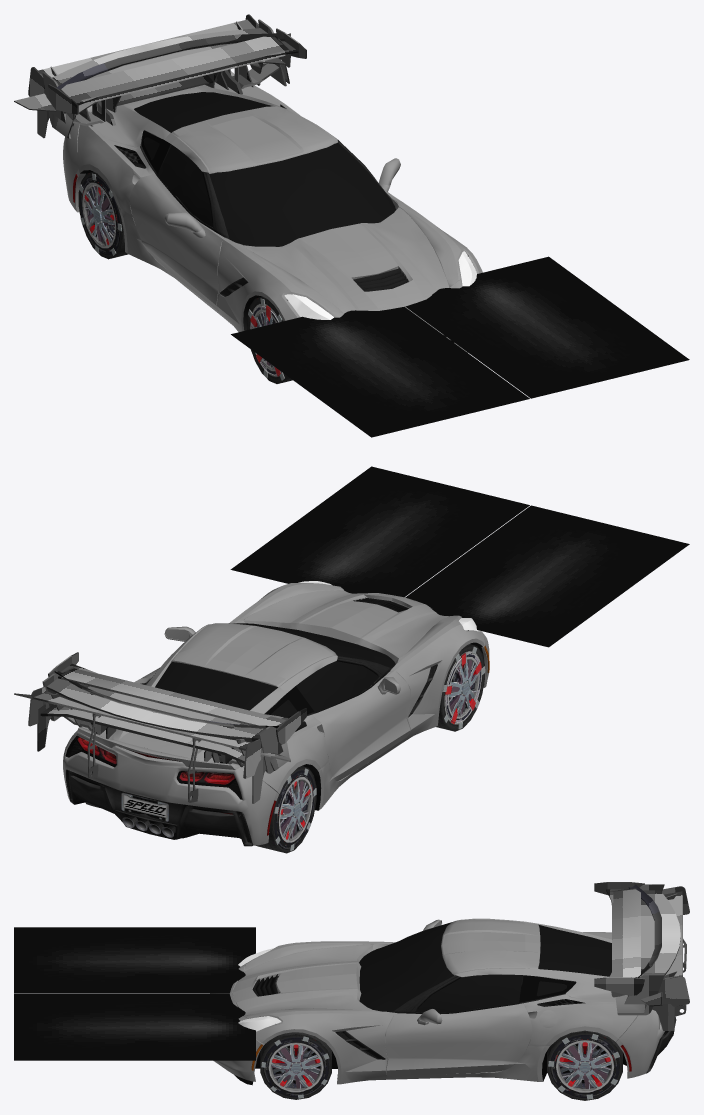
The model's file is C7_Show.fbx.
3 views of the same model, one above another, from view 1: azimuth 30°, elevation 25°; view 2: azimuth 150°, elevation 25°; view 3: azimuth 270°, elevation 25° (orthographic). The views are drawn at different scales.
Visible parts, largest first — view 1: Quad (×2), Car_Body, Glass_Windows, Spoiler_10, Spoiler_06, Car_Body_Misc, Spoiler_01, Spoiler_03, Wheel_BR, Glass_HeadLight, Spoiler_07, Spoiler_08 (+2 smaller); view 2: Quad (×2), Car_Body, Car_Body_Misc, Glass_Windows, Spoiler_01, Spoiler_10, Spoiler_03, Spoiler_02, Spoiler_06, Wheel_R (×2), Wheel_BR, Plate; view 3: Car_Body, Quad (×2), Glass_Windows, Car_Body_Misc, Spoiler_06, Wheel_Back_L (×4), Spoiler_10, Wheel_L (×4), Spoiler_01, Wheel_BL, Spoiler_03, Wheel_FL (+3 smaller).
Boxes of the visible parts, box(x1,y1,x2,y2) form: Quad (×2): box(231, 256, 689, 437); Car_Body: box(63, 71, 482, 352); Glass_Windows: box(134, 92, 395, 246); Spoiler_10: box(59, 36, 291, 120); Spoiler_06: box(48, 28, 306, 114); Car_Body_Misc: box(73, 104, 468, 342); Spoiler_01: box(42, 19, 286, 138); Spoiler_03: box(28, 14, 259, 96); Wheel_BR: box(80, 176, 120, 255); Glass_HeadLight: box(284, 251, 477, 319); Spoiler_07: box(52, 50, 289, 137); Spoiler_08: box(14, 21, 290, 126); Quad (×2): box(230, 466, 689, 647); Car_Body: box(63, 583, 489, 845); Car_Body_Misc: box(65, 597, 489, 846); Glass_Windows: box(155, 623, 395, 717); Spoiler_01: box(42, 673, 283, 773); Spoiler_10: box(58, 666, 285, 761); Spoiler_03: box(28, 687, 263, 802); Spoiler_02: box(37, 703, 266, 803); Spoiler_06: box(48, 652, 306, 762); Wheel_R (×2): box(441, 645, 484, 730); Wheel_BR: box(274, 770, 315, 849); Plate: box(121, 792, 168, 822); Car_Body: box(210, 918, 664, 1084); Quad (×2): box(14, 927, 255, 1060); Glass_Windows: box(359, 923, 611, 1013); Car_Body_Misc: box(234, 921, 676, 1085); Spoiler_06: box(594, 882, 661, 995); Wheel_Back_L (×4): box(547, 1030, 622, 1100); Spoiler_10: box(610, 888, 640, 997); Wheel_L (×4): box(260, 1032, 331, 1099); Spoiler_01: box(618, 884, 680, 1015); Wheel_BL: box(550, 1035, 619, 1097); Spoiler_03: box(658, 886, 689, 1016); Wheel_FL: box(263, 1037, 329, 1097).
Bounding box in the file's own units: 2.61 × 1.2 × 5.59.
